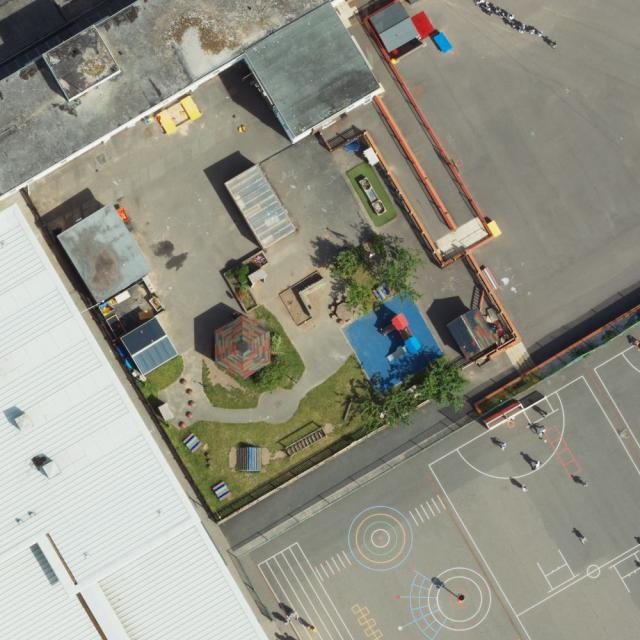roof: (0, 200, 274, 640), (0, 0, 388, 205)
